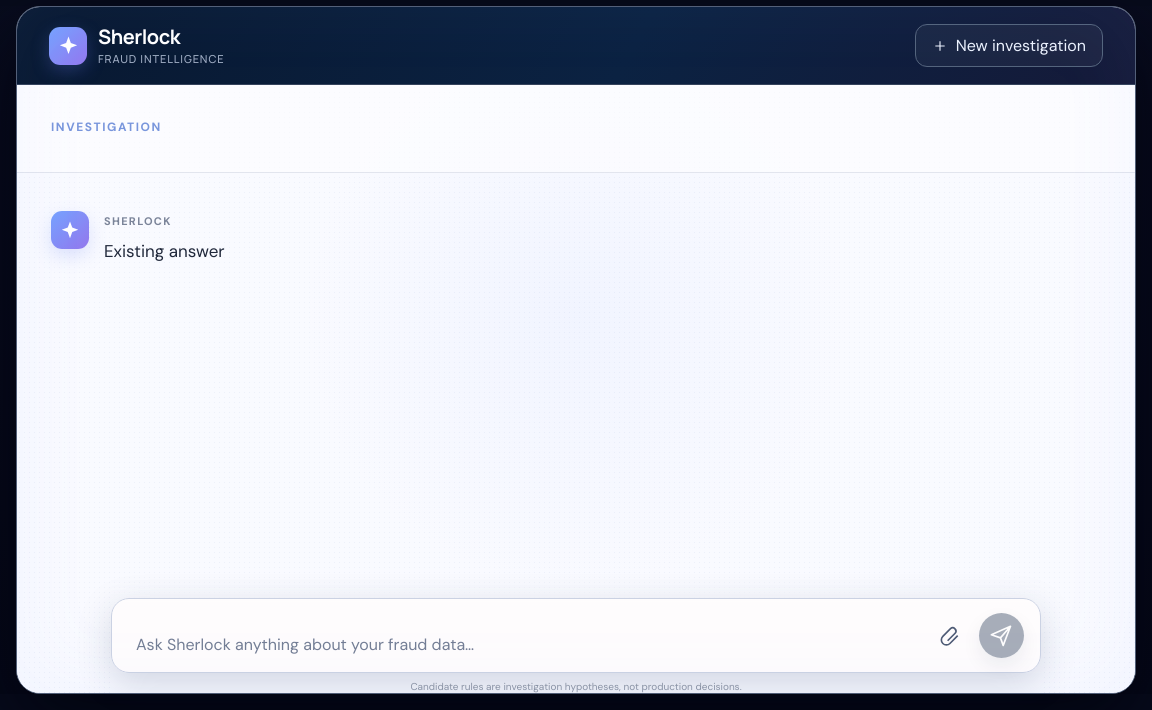
Sherlock application › retains a malformed response as a safe failed turn for retry
Type "Malformed turn" into the text box labelled "Ask Sherlock".
click(514, 643); type("Malformed turn")  # box top-left (112, 615), bottom-right (915, 672)
Then press Enter
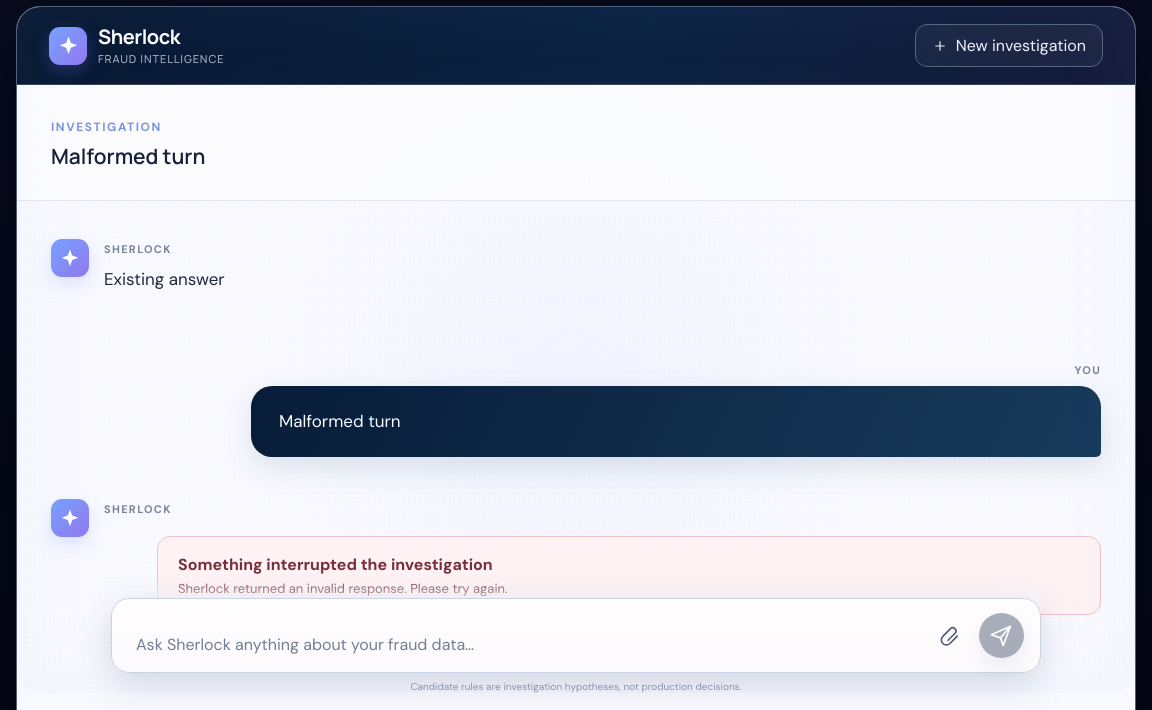
Expected: the text "Existing answer" is shown, top-left (104, 268), bottom-right (225, 290)
Expected: the message shows "Sherlock returned an invalid response", top-left (178, 580), bottom-right (508, 597)
Expected: the text "Malformed turn" is shown, top-left (251, 386), bottom-right (1101, 456)
Type "Retry" into the text box labelled "Ask Sherlock".
click(514, 643); type("Retry")  # box top-left (112, 615), bottom-right (915, 672)
Then press Enter
(page scrolled)
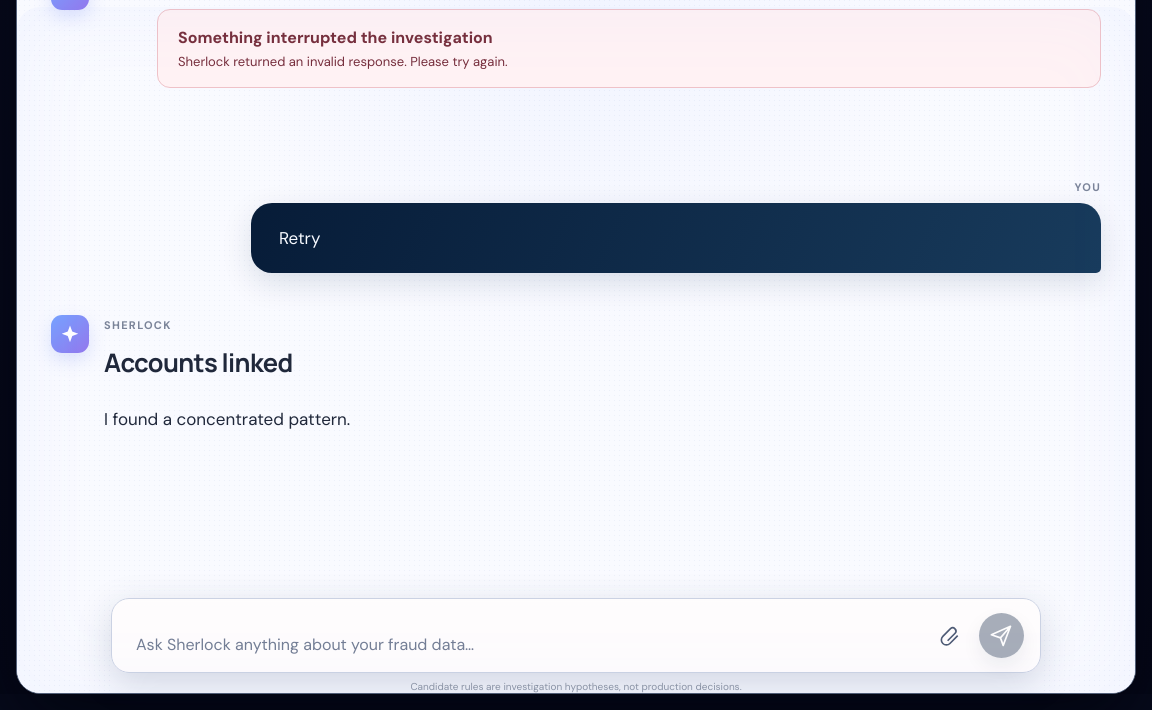
Expected: the text "I found a concentrated pattern." is shown, top-left (104, 408), bottom-right (350, 430)
